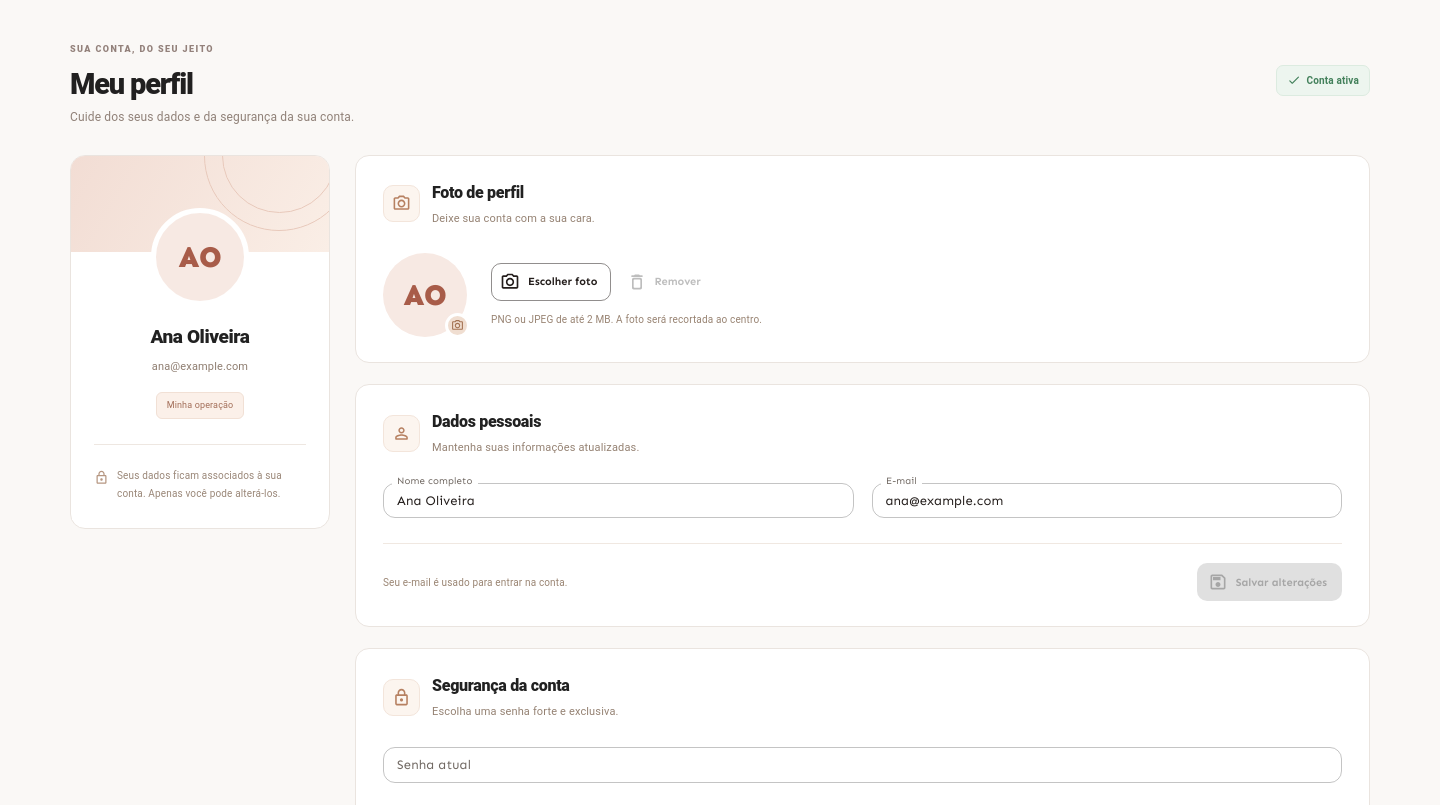
Scenario: perfil › impede troca de senha quando a confirmação não coincide
Type "Atual123!" into the password field labelled "Senha atual".
click(862, 765); type("Atual123!")  # box [383, 747, 1342, 783]
(page scrolled)
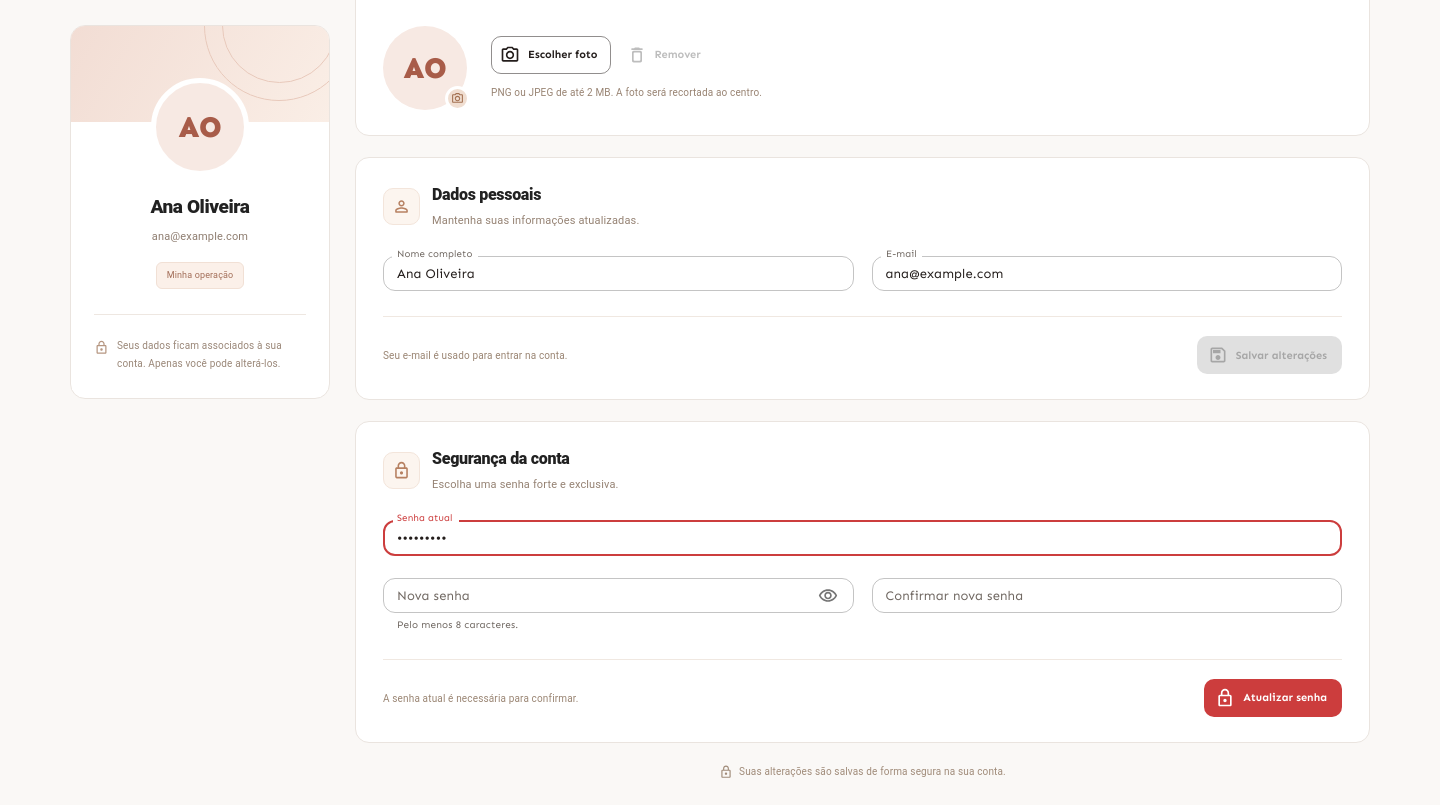
Type "Nova12345!" into the password field labelled "Nova senha".
click(594, 596); type("Nova12345!")  # box [383, 578, 804, 614]
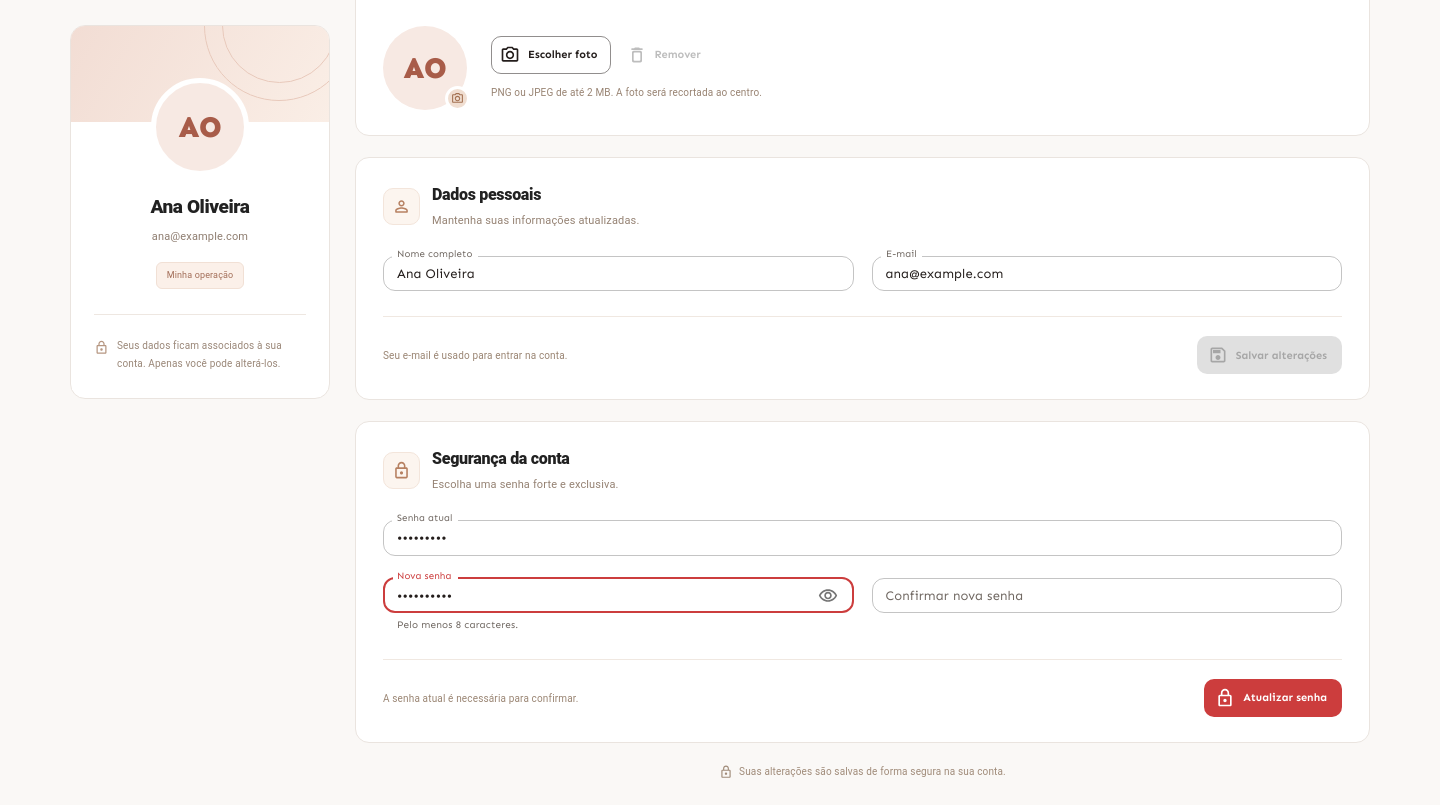
Type "Outra12345!" into the password field labelled "Confirmar nova senha".
click(1107, 596); type("Outra12345!")  # box [872, 578, 1342, 614]
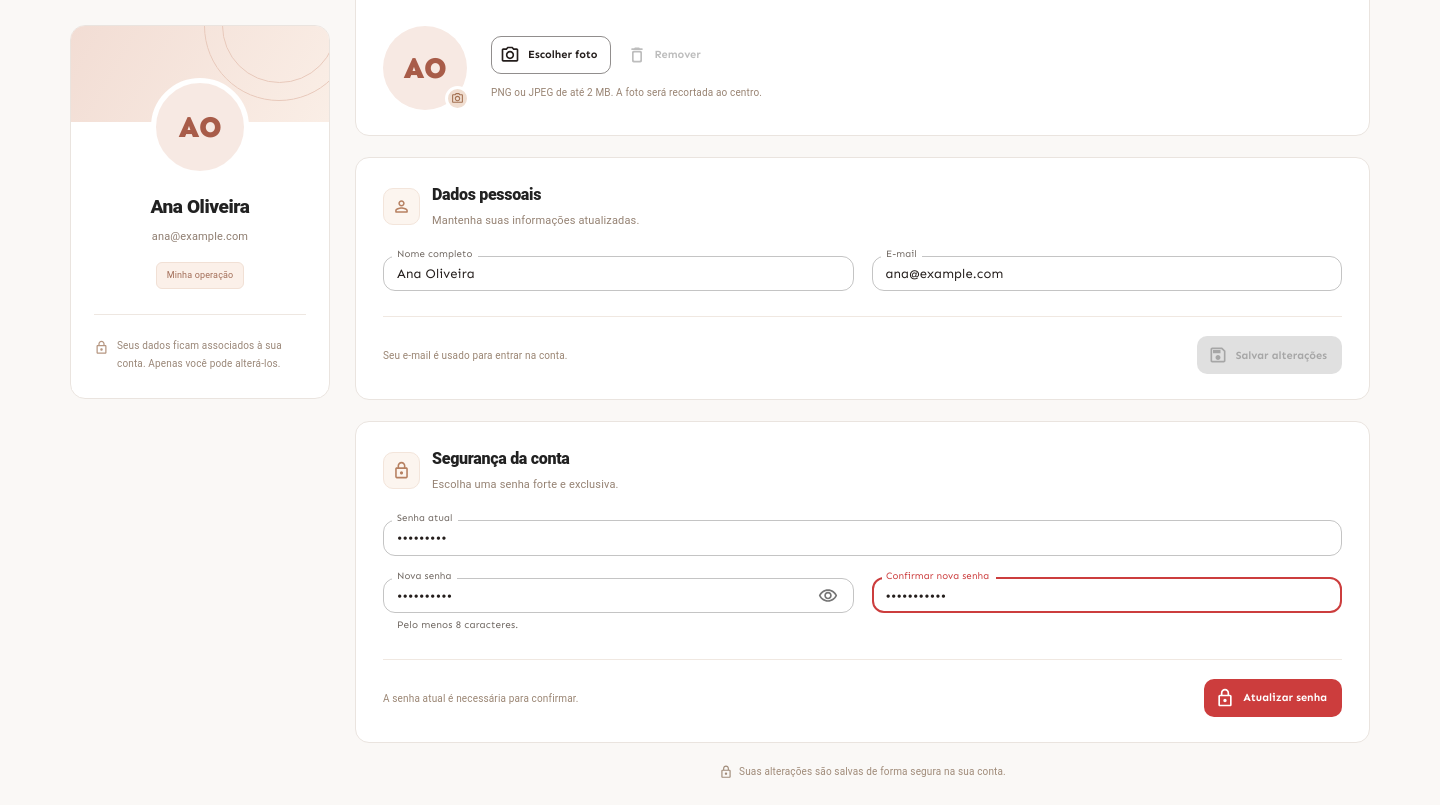
Click the button "Atualizar senha".
click(1273, 698)  # box [1204, 679, 1342, 717]
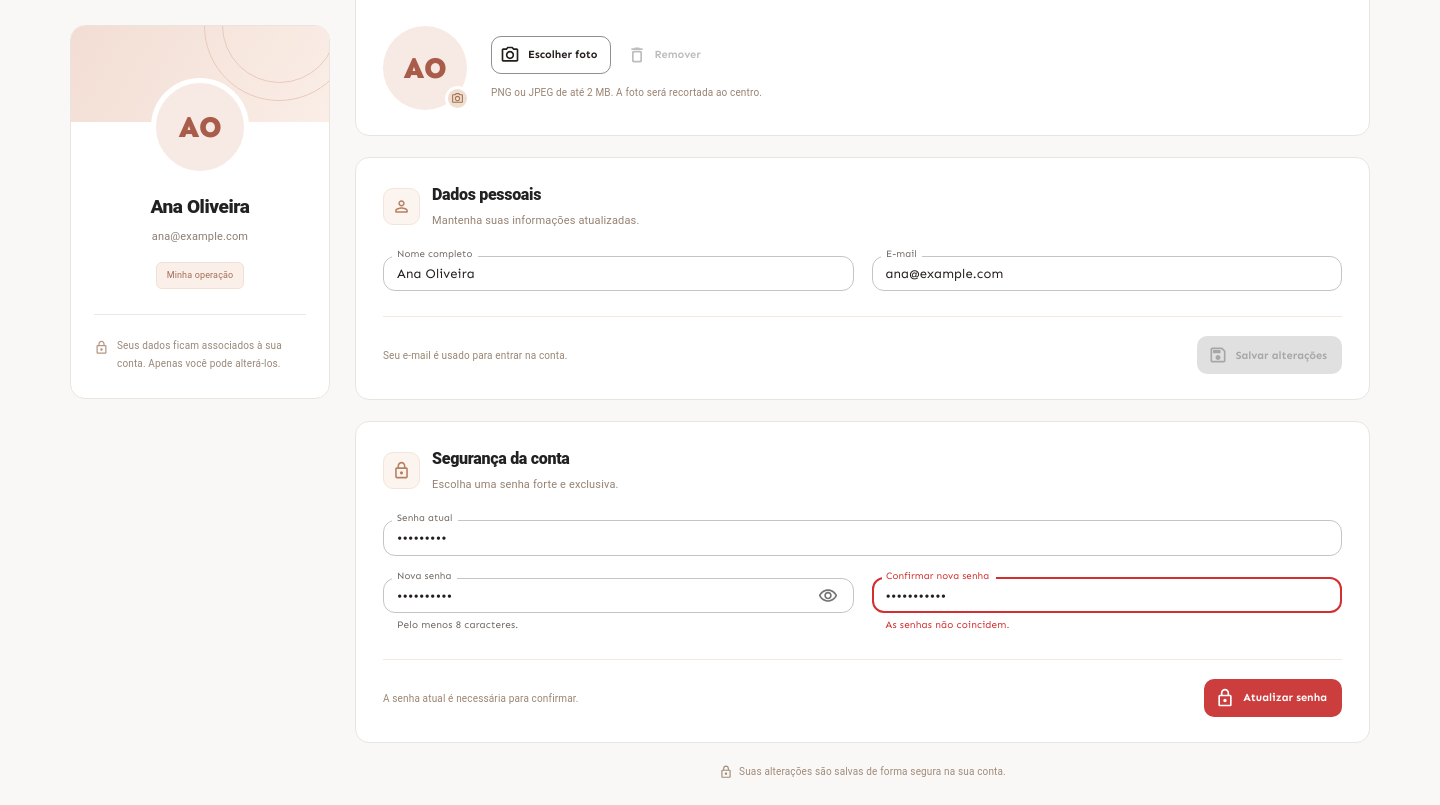
expect the text "As senhas não coincidem." is shown: met, box [886, 619, 1010, 631]
